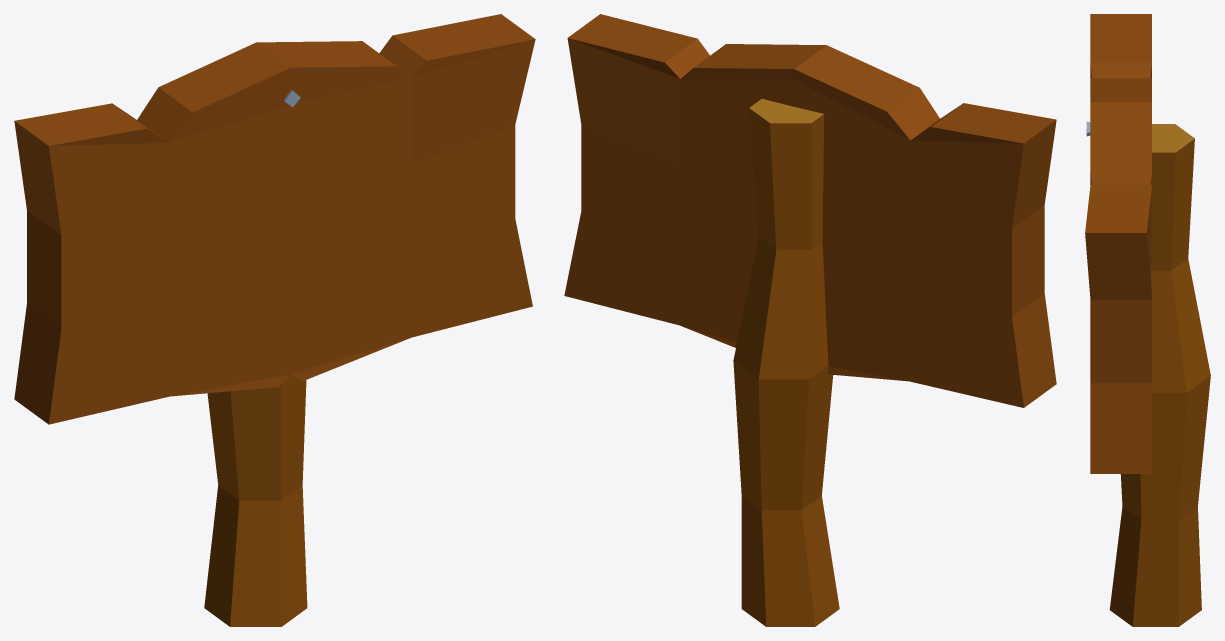
File: sign_2.glb
The picture shows the model from 3 angles, left to right: view 1: azimuth 30°, elevation 25°; view 2: azimuth 150°, elevation 25°; view 3: azimuth 270°, elevation 25°; orthographic projection. The views are drawn at different scales.
Parts seen in each view (by area): view 1: sign_2; view 2: sign_2; view 3: sign_2.
Part boxes in pixels (x1,y1,x2,y2): sign_2: (14, 14, 535, 626); sign_2: (564, 14, 1056, 626); sign_2: (1085, 14, 1210, 626).
Bounding box in the file's own units: 2.95 × 3.3 × 0.7429.
1 material, 1 textured.
